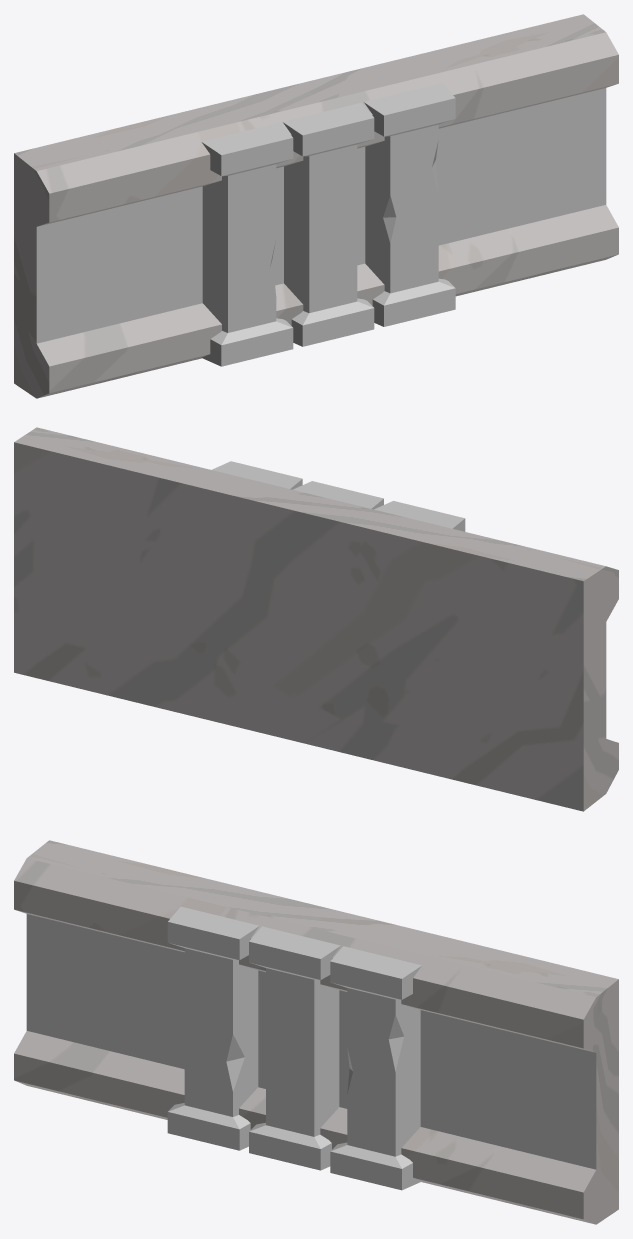
File: SM_Bld_Trim_Large_Single_02.fbx
The picture shows the model from 3 angles, top to bottom: view 1: azimuth 30°, elevation 25°; view 2: azimuth 150°, elevation 25°; view 3: azimuth 330°, elevation 25°; orthographic projection.
Parts seen in each view (by area): view 1: SM_Bld_Trim_Large_Single_02; view 2: SM_Bld_Trim_Large_Single_02; view 3: SM_Bld_Trim_Large_Single_02.
Part boxes in pixels (box(x1,y1,x2,y2)): SM_Bld_Trim_Large_Single_02: box(14, 14, 618, 398); SM_Bld_Trim_Large_Single_02: box(14, 427, 618, 811); SM_Bld_Trim_Large_Single_02: box(14, 840, 618, 1224).
Bounding box in the file's own units: 250 × 96.59 × 33.84.
